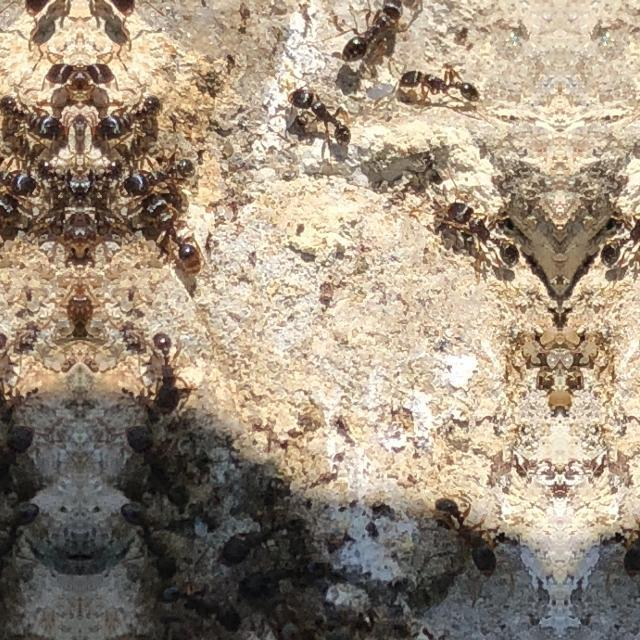Tetramorium: (433, 176, 533, 270), (133, 182, 217, 290), (281, 70, 363, 142), (94, 84, 178, 150), (393, 53, 489, 109), (586, 175, 640, 268), (119, 142, 207, 198), (342, 0, 406, 66), (0, 84, 64, 150), (80, 41, 132, 113), (28, 41, 80, 113), (0, 182, 26, 290), (84, 0, 160, 36), (0, 0, 76, 36), (0, 141, 40, 196)
